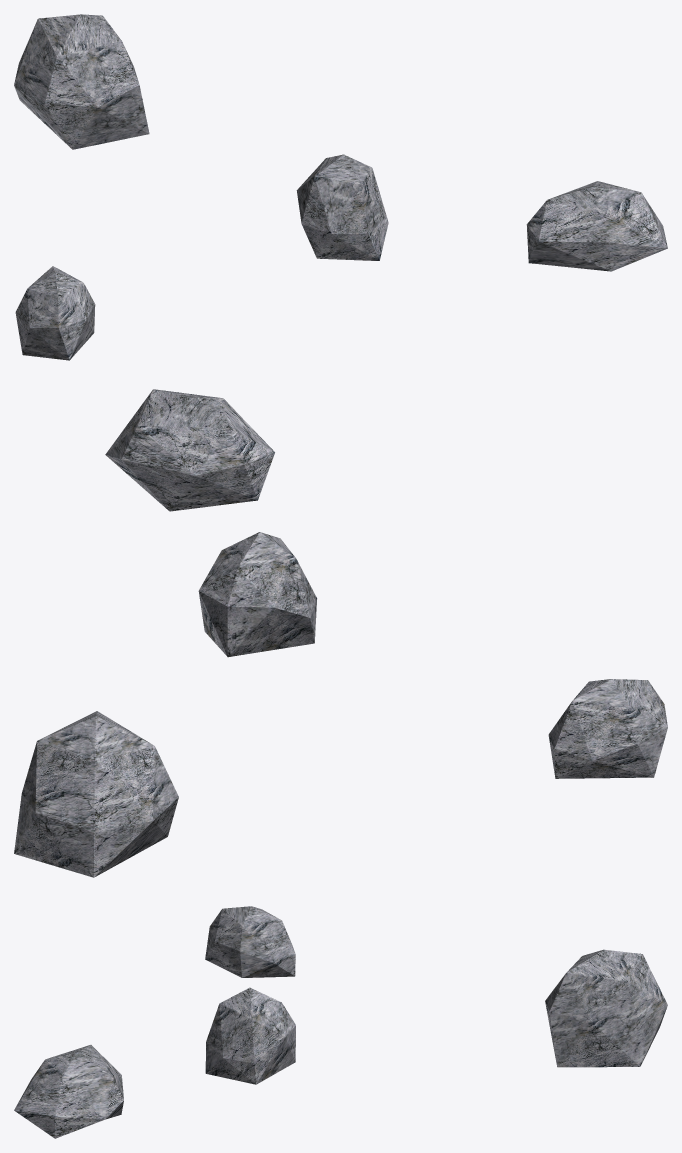
Rendered from des_boulders_.obj.
3 renders of one model, top to bottom at view 1: azimuth 30°, elevation 25°; view 2: azimuth 150°, elevation 25°; view 3: azimuth 270°, elevation 25°, orthographic. The views are drawn at different scales.
Visible parts, largest first — view 1: des_boulders_; view 2: des_boulders_; view 3: des_boulders_.
Part boxes in pixels (<box>): des_boulders_: <box>14,14,667,360</box>; des_boulders_: <box>14,389,667,877</box>; des_boulders_: <box>14,906,667,1138</box>.
Size of the model in its own units: 156 by 37.09 by 185.
1 material, 1 textured.
